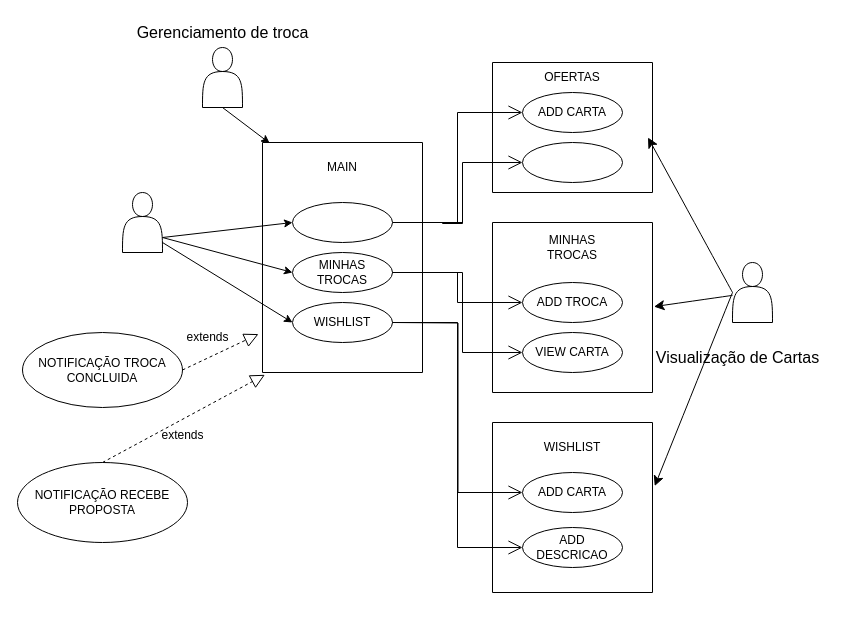
The diagram is 850 pixels wide and 630 high, and some of its shapes have lost their labels. Here are the shapes that lost their labels. From the top down, the centre of each, then its label:
At point 572,162: "CONFIRMAR".
At point 342,222: "OFERTA".
